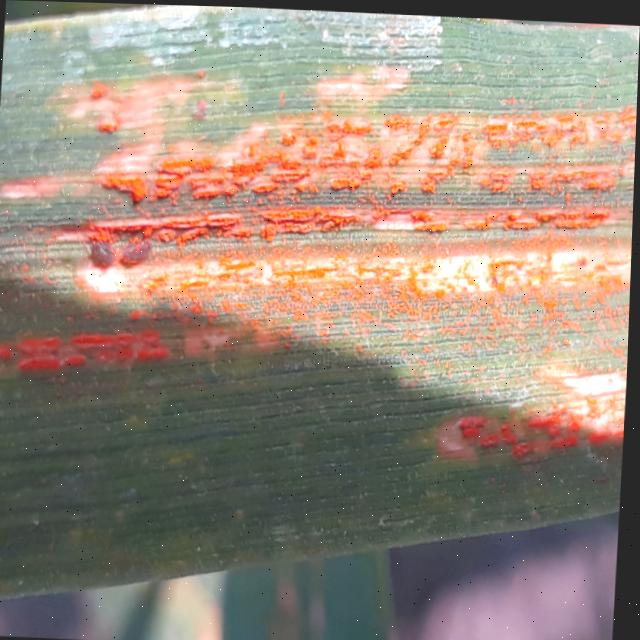yellow_rust: (0, 5, 640, 559)
